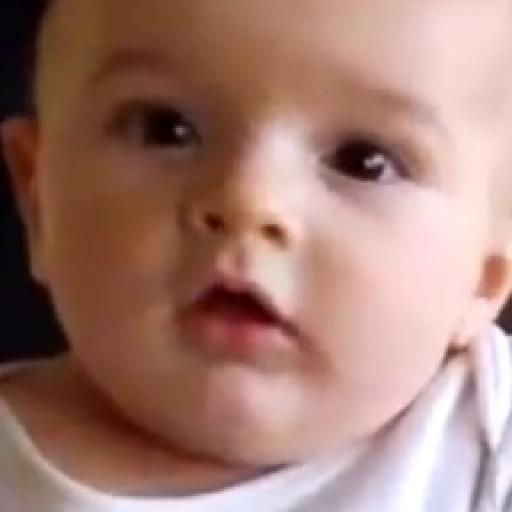Autism: (29, 5, 512, 507)
